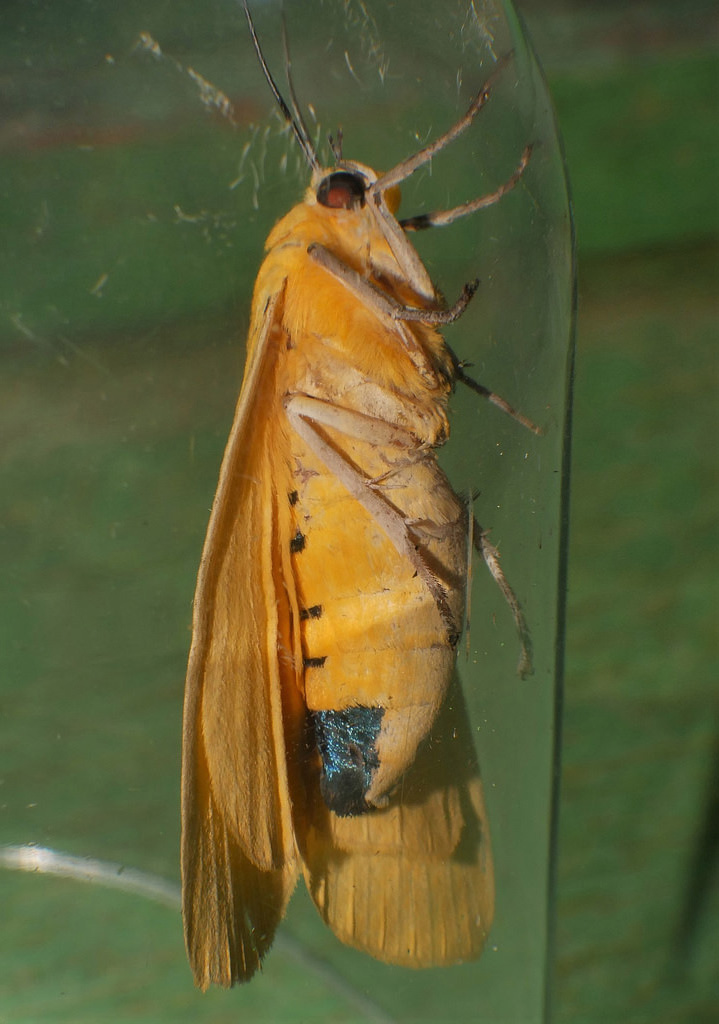Agape chloropyga: (168, 4, 541, 998)
moth: (170, 6, 543, 1000)
